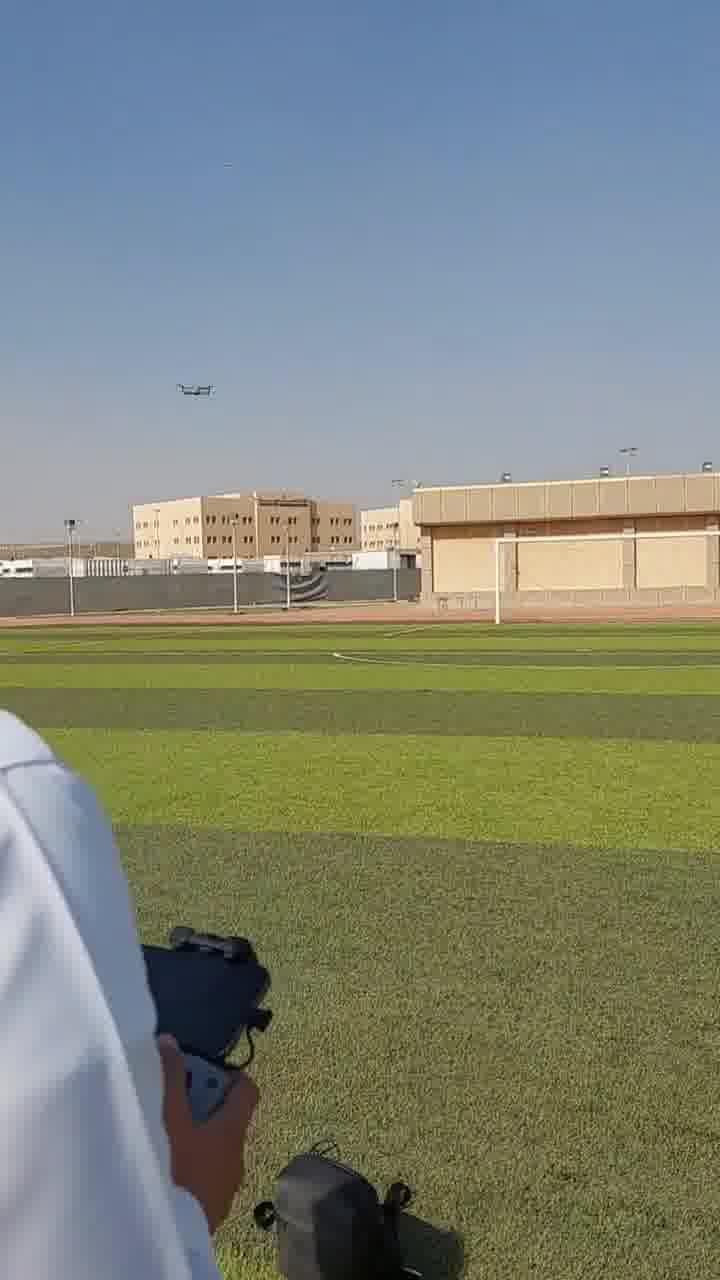drone: (159, 374, 229, 409)
